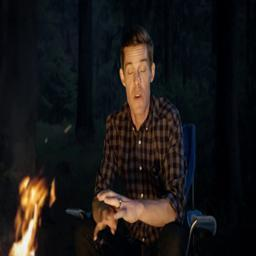fire: (9, 176, 56, 256)
